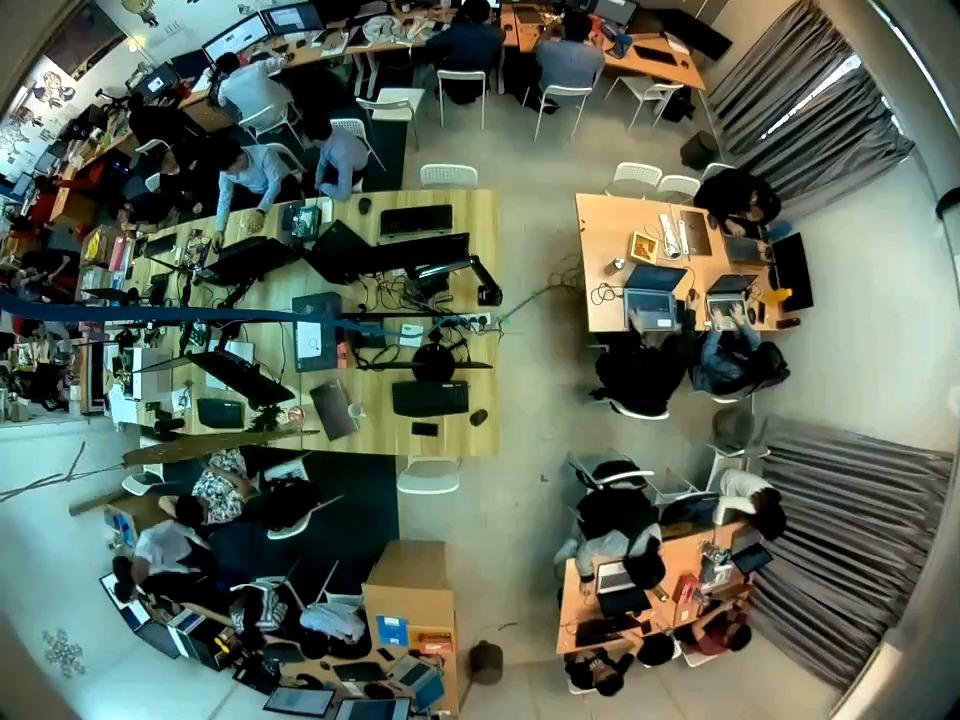name-tag: (159, 554, 166, 566)
